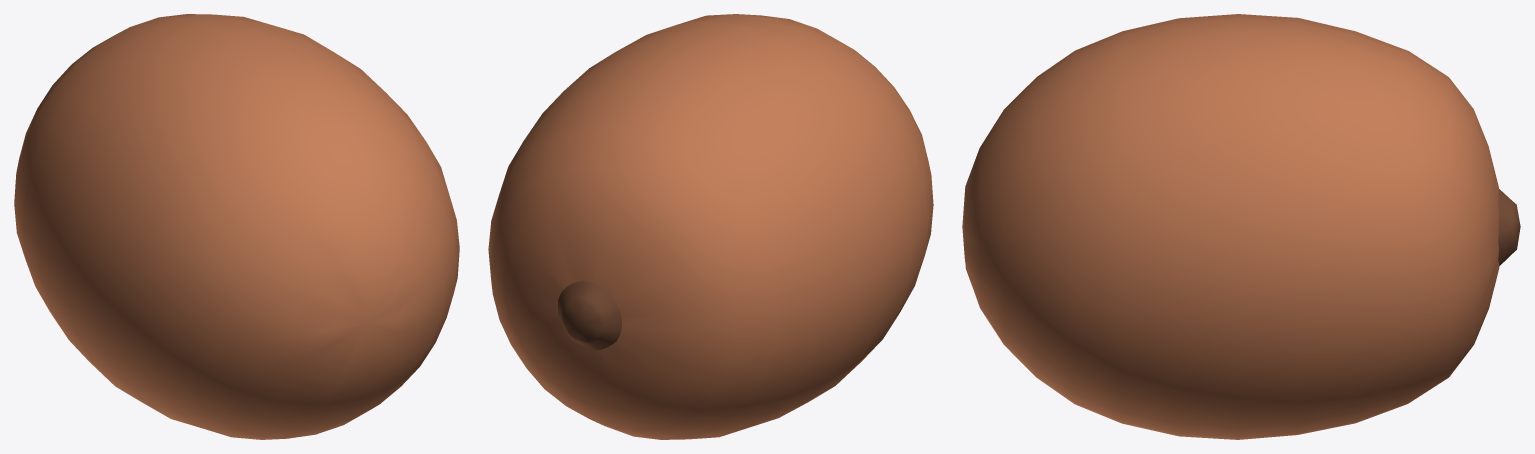
File: Kiwi_Whole.fbx
3 renders of one model, left to right at view 1: azimuth 30°, elevation 25°; view 2: azimuth 150°, elevation 25°; view 3: azimuth 270°, elevation 25°, orthographic. The views are drawn at different scales.
Parts seen in each view (by area): view 1: Sphere.016; view 2: Sphere.016; view 3: Sphere.016.
Boxes of the visible parts, bbox=[...] form: Sphere.016: bbox=[14, 14, 459, 439]; Sphere.016: bbox=[488, 14, 933, 439]; Sphere.016: bbox=[962, 14, 1520, 439].
Bounding box in the file's own units: 94.35 × 94.43 × 124.
